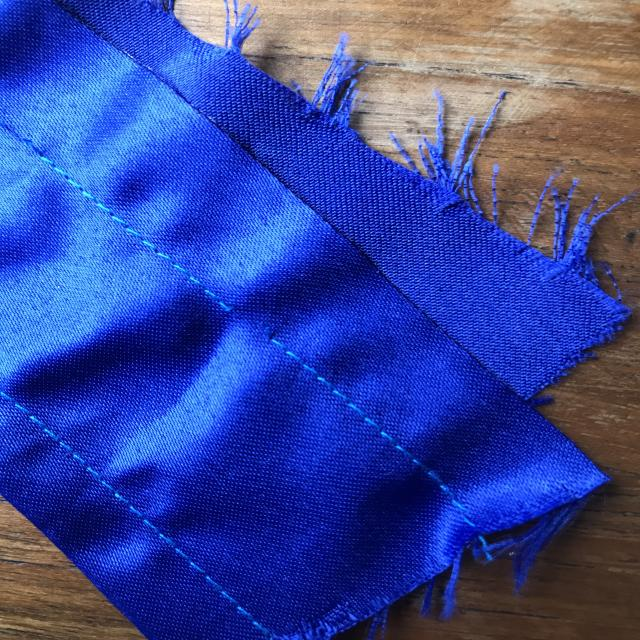broken: (194, 294, 308, 354)
